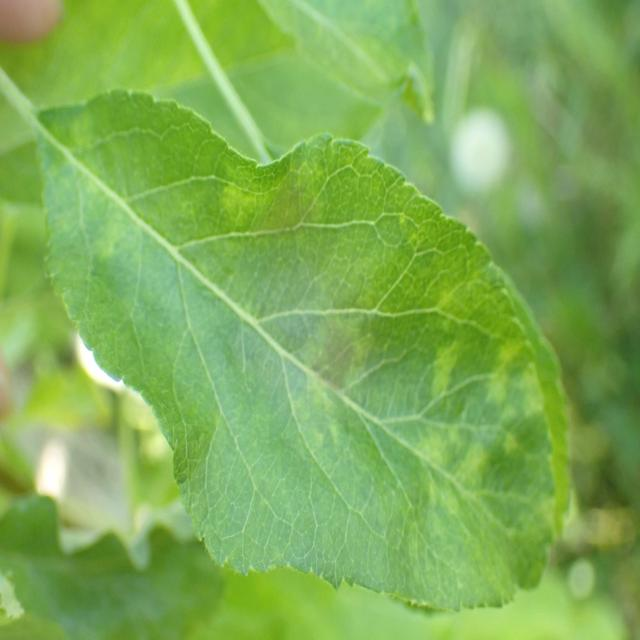scab: (56, 94, 561, 577)
